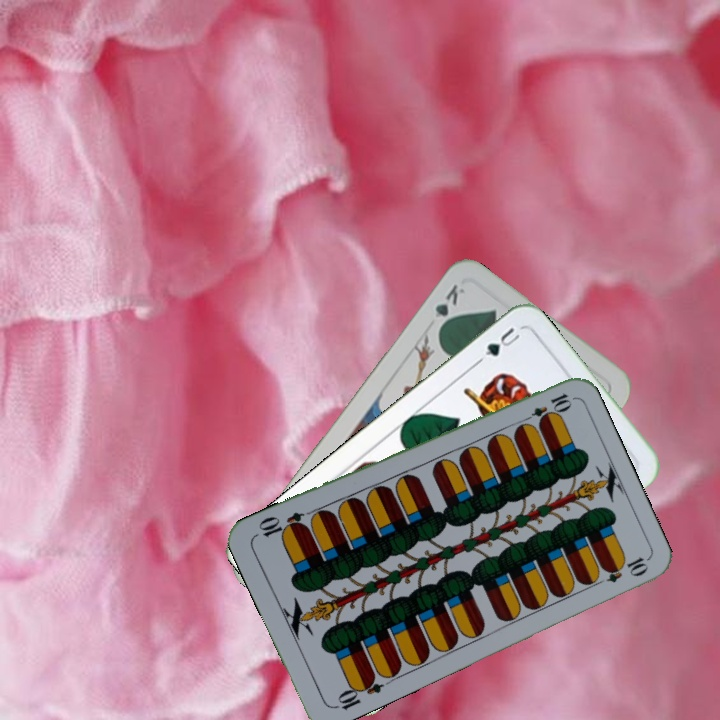E10: (330, 671, 386, 713), (517, 389, 574, 427)
GK: (430, 279, 468, 335)
GU: (473, 323, 523, 366)
